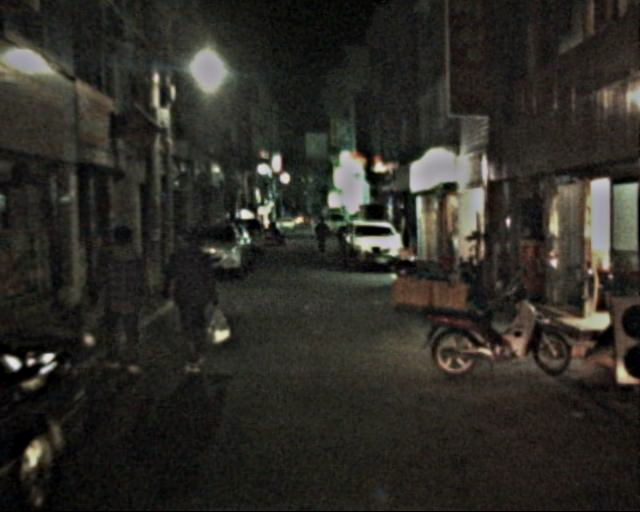person: (90, 223, 157, 374), (166, 226, 224, 371), (311, 217, 330, 260)
